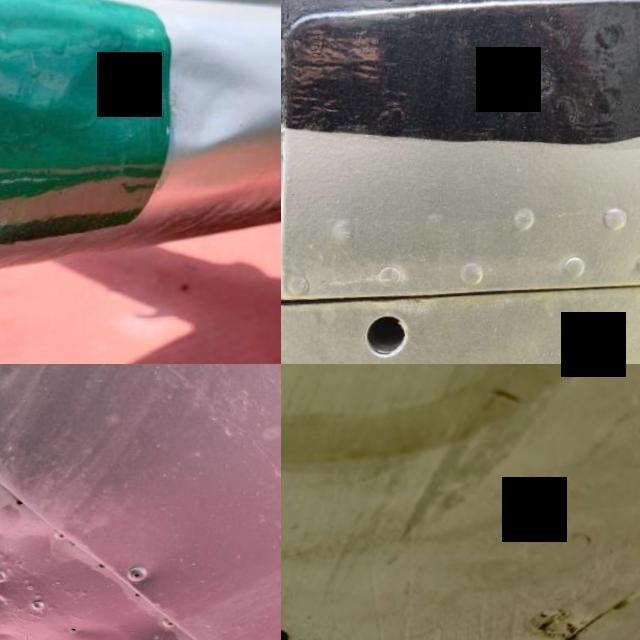Crack: (281, 557, 415, 640)
Dent: (0, 426, 265, 640), (42, 18, 281, 198)
Missing_Fastener: (330, 274, 447, 364)
